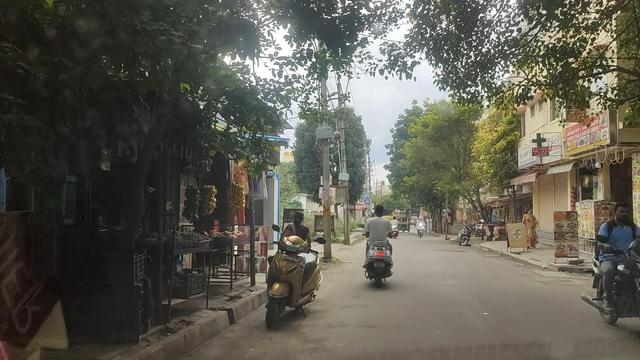LMV: (572, 202, 640, 328), (260, 225, 328, 337), (350, 194, 396, 289)
